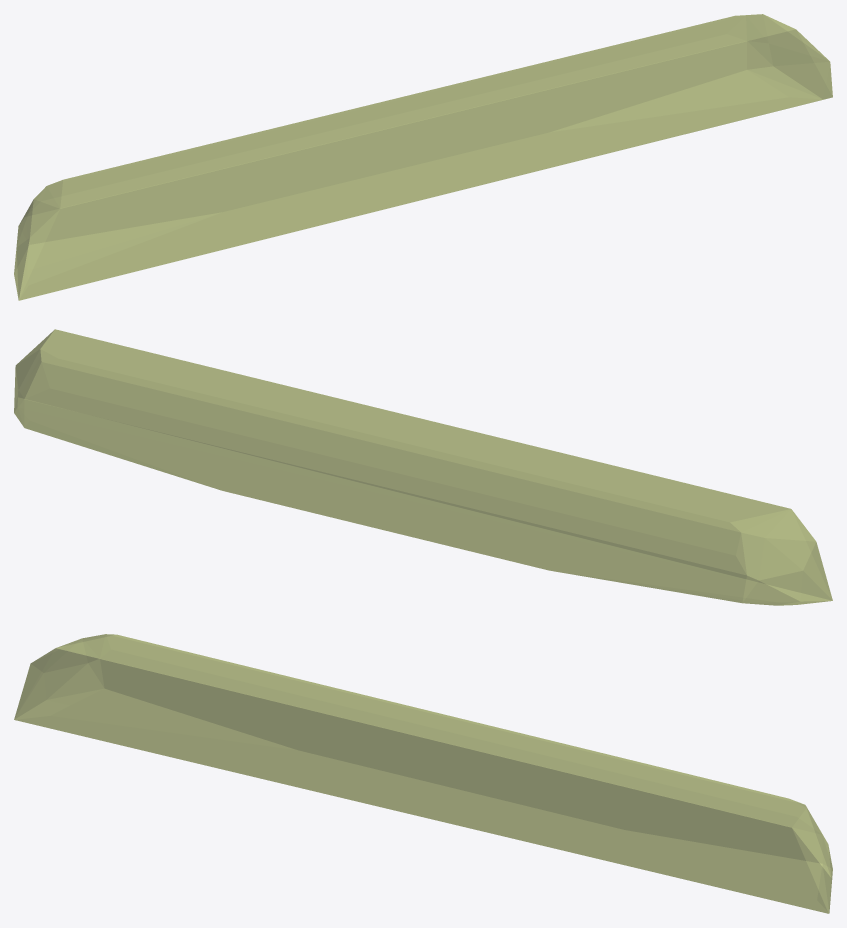
The picture shows the model from 3 angles, top to bottom: view 1: azimuth 30°, elevation 25°; view 2: azimuth 150°, elevation 25°; view 3: azimuth 330°, elevation 25°; orthographic projection.
Parts seen in each view (by area): view 1: Shape_IndexedFaceSet.002_Shape_IndexedFaceSet.9575; view 2: Shape_IndexedFaceSet.002_Shape_IndexedFaceSet.9575; view 3: Shape_IndexedFaceSet.002_Shape_IndexedFaceSet.9575.
Boxes of the visible parts, left/top/right/bottom form: Shape_IndexedFaceSet.002_Shape_IndexedFaceSet.9575: left=14, top=14, right=832, bottom=300; Shape_IndexedFaceSet.002_Shape_IndexedFaceSet.9575: left=14, top=329, right=832, bottom=605; Shape_IndexedFaceSet.002_Shape_IndexedFaceSet.9575: left=14, top=634, right=832, bottom=913.
Bounding box in the file's own units: 0.4941 × 0.0475 × 0.0419.
